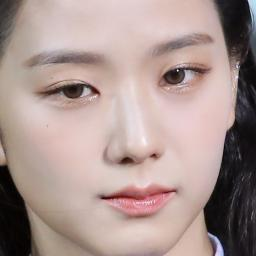face: (4, 0, 226, 252)
